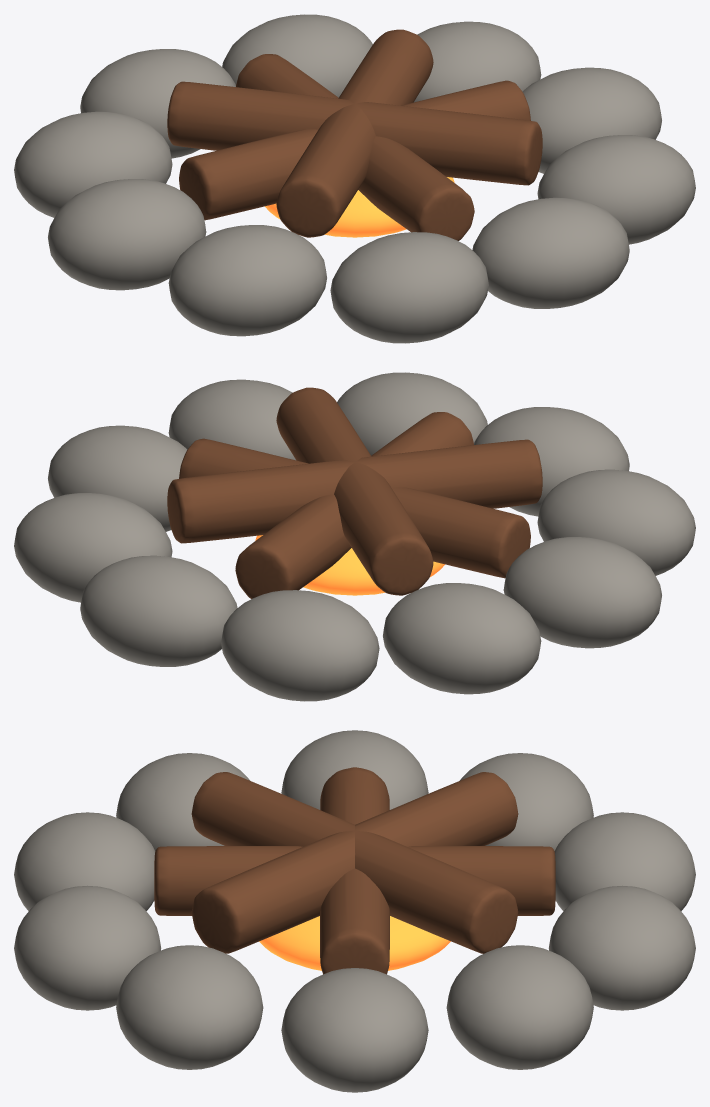
File: plush_campfire.glb
The picture shows the model from 3 angles, top to bottom: view 1: azimuth 30°, elevation 25°; view 2: azimuth 150°, elevation 25°; view 3: azimuth 270°, elevation 25°; orthographic projection. The views are drawn at different scales.
Visible parts, largest first — view 1: stone0, log0, embers; view 2: stone0, log0, embers; view 3: stone0, log0, embers.
Boxes of the visible parts, left/top/right/bottom form: stone0: left=14, top=14, right=695, bottom=343; log0: left=167, top=29, right=542, bottom=240; embers: left=265, top=177, right=454, bottom=237; stone0: left=14, top=372, right=695, bottom=701; log0: left=167, top=387, right=542, bottom=598; embers: left=255, top=535, right=444, bottom=595; stone0: left=14, top=730, right=695, bottom=1092; log0: left=154, top=767, right=555, bottom=974; embers: left=259, top=916, right=450, bottom=970.
Bounding box in the file's own units: 1.1 × 0.2149 × 1.02.
